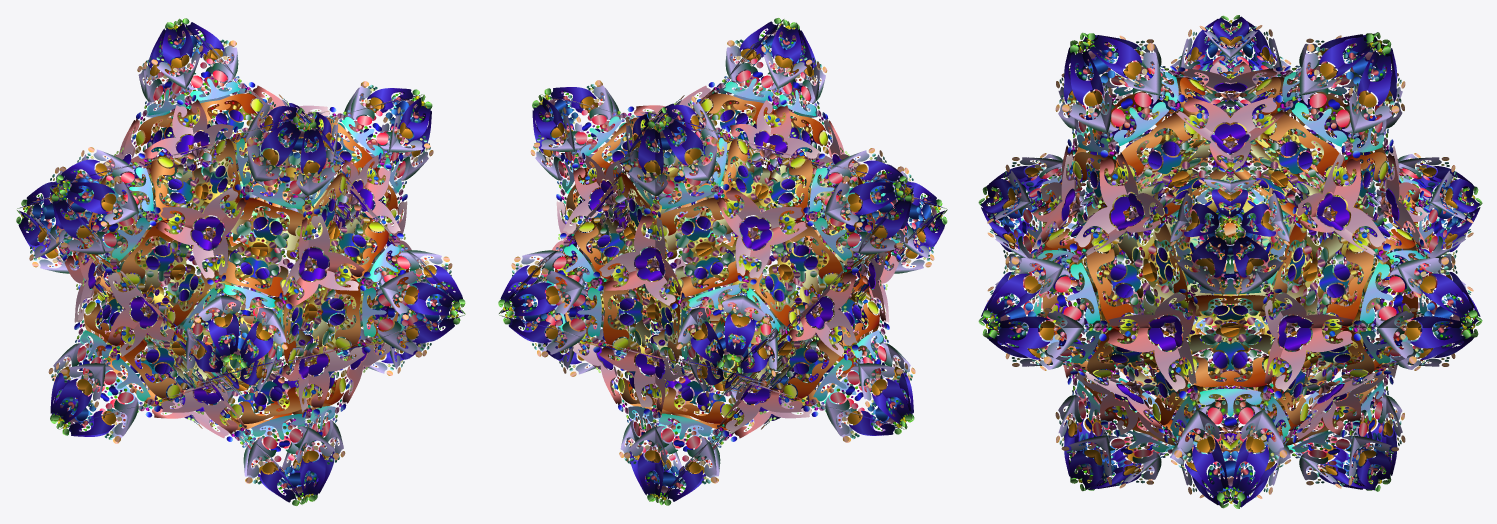
The model's file is GreatDodecahedron5.obj.
3 views of the same model, side by side, from view 1: azimuth 30°, elevation 25°; view 2: azimuth 150°, elevation 25°; view 3: azimuth 270°, elevation 25° (orthographic). The views are drawn at different scales.
Bounding box in the file's own units: 1.62 × 1.62 × 1.62.
Materials: 1 (1 with a texture image).
